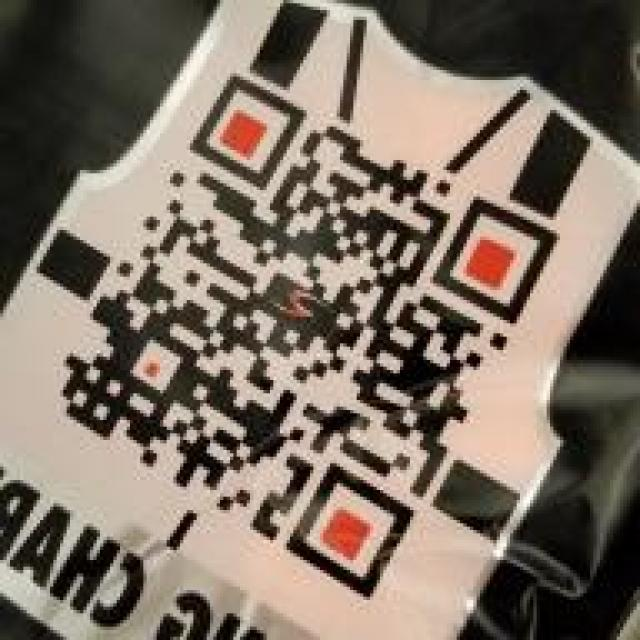qr_code: (56, 72, 560, 601)
